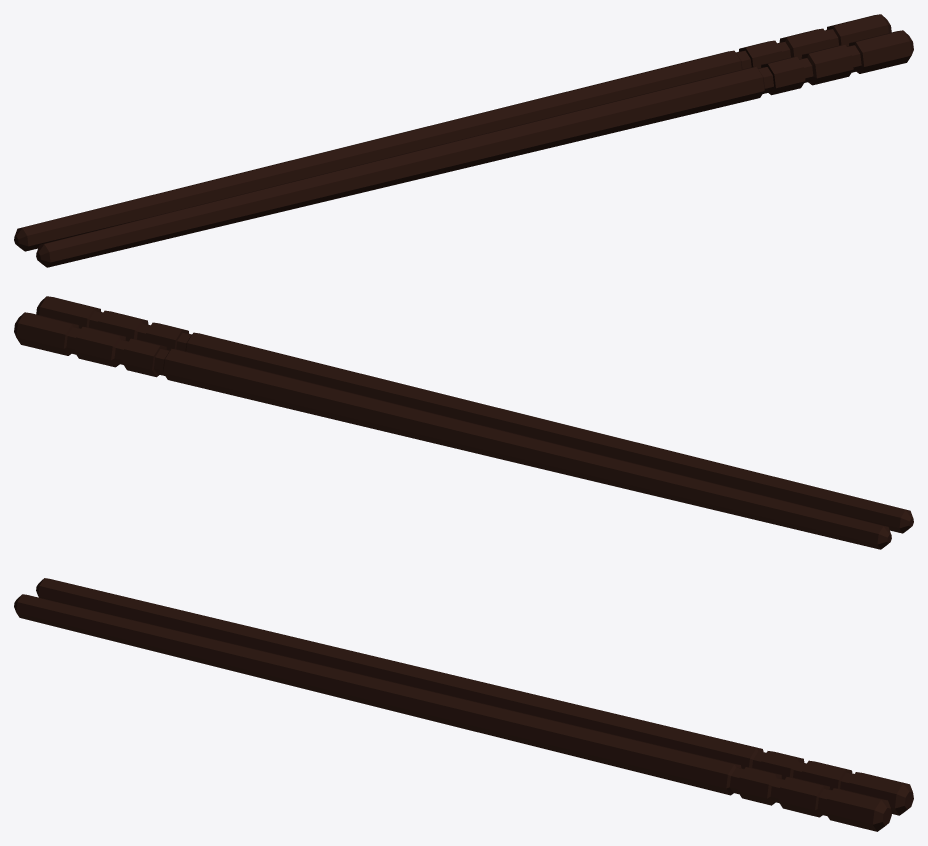
The model's file is chopsticks.glb.
3 views of the same model, one above another, from view 1: azimuth 30°, elevation 25°; view 2: azimuth 150°, elevation 25°; view 3: azimuth 330°, elevation 25° (orthographic).
Parts seen in each view (by area): view 1: Chopsticks; view 2: Chopsticks; view 3: Chopsticks.
Part boxes in pixels (x1,y1,x2,y2): Chopsticks: (14, 14, 913, 267); Chopsticks: (14, 296, 913, 549); Chopsticks: (14, 578, 913, 831).
Bounding box in the file's own units: 163 × 5.32 × 12.61.
